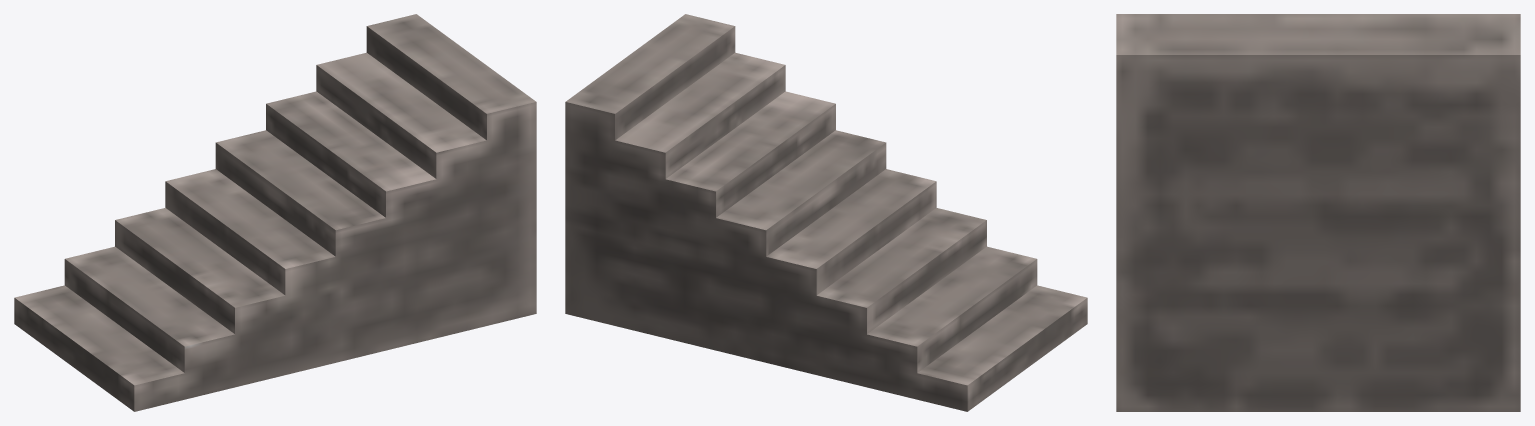
File: Stairs.fbx
The picture shows the model from 3 angles, left to right: view 1: azimuth 30°, elevation 25°; view 2: azimuth 150°, elevation 25°; view 3: azimuth 270°, elevation 25°; orthographic projection. The views are drawn at different scales.
Parts seen in each view (by area): view 1: Cube.001; view 2: Cube.001; view 3: Cube.001.
Boxes of the visible parts, x1=… form: Cube.001: x1=14, y1=14, x2=536, y2=411; Cube.001: x1=565, y1=14, x2=1087, y2=411; Cube.001: x1=1116, y1=14, x2=1520, y2=411.
Bounding box in the file's own units: 1006 × 507 × 520.
Materials: 1 (1 with a texture image).
